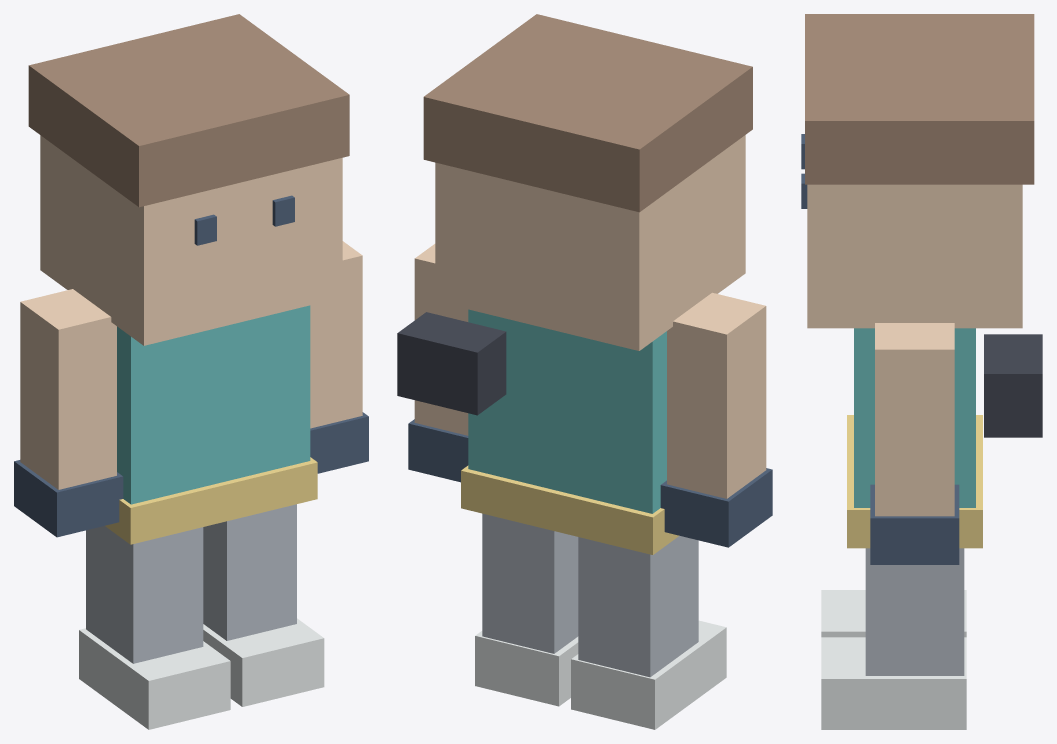
Rendered from weirdo_6_inverted_observer.glb.
3 renders of one model, left to right at view 1: azimuth 30°, elevation 25°; view 2: azimuth 150°, elevation 25°; view 3: azimuth 270°, elevation 25°, orthographic. The views are drawn at different scales.
Parts seen in each view (by area): view 1: Hair, Head, RootBody, Arm_L, Leg_L, Leg_R, Shoe_L, UtilityBelt, Arm_R, Shoe_R, WristGuard_L, WristGuard_R (+2 smaller); view 2: Hair, Head, RootBody, Arm_L, Leg_L, Leg_R, UpsideDownCamera, Shoe_L, UtilityBelt, WristGuard_L, Shoe_R, Arm_R (+1 smaller); view 3: Hair, Head, Arm_R, Leg_R, Shoe_R, RootBody, UpsideDownCamera, WristGuard_R, UtilityBelt, Shoe_L.
Part boxes in pixels (x1,y1,x2,y2): Hair: (28, 14, 349, 207); Head: (40, 135, 342, 345); RootBody: (117, 305, 310, 504); Arm_L: (20, 289, 116, 489); Leg_L: (86, 526, 203, 663); Leg_R: (203, 504, 296, 640); Shoe_L: (79, 628, 230, 729); UtilityBelt: (105, 457, 317, 544); Arm_R: (310, 241, 362, 428); Shoe_R: (203, 618, 324, 706); WristGuard_L: (14, 460, 123, 537); WristGuard_R: (310, 412, 368, 473); Hair: (423, 14, 752, 212); Head: (435, 135, 745, 350); RootBody: (468, 309, 666, 513); Arm_L: (667, 292, 766, 498); Leg_L: (578, 536, 698, 677); Leg_R: (482, 513, 578, 653); UpsideDownCamera: (397, 312, 506, 415); Shoe_L: (571, 620, 726, 729); UtilityBelt: (461, 465, 679, 554); WristGuard_L: (660, 468, 772, 547); Shoe_R: (475, 631, 578, 706); Arm_R: (414, 244, 468, 435); Hair: (805, 14, 1034, 184); Head: (807, 184, 1022, 328); Arm_R: (875, 323, 954, 516); Leg_R: (865, 548, 964, 675); Shoe_R: (821, 637, 966, 729); RootBody: (854, 328, 975, 507); UpsideDownCamera: (984, 334, 1042, 437); WristGuard_R: (870, 484, 959, 564); UtilityBelt: (847, 415, 982, 548); Shoe_L: (821, 590, 966, 637).
Size of the model in its own units: 1.6 by 2.91 by 1.03.
